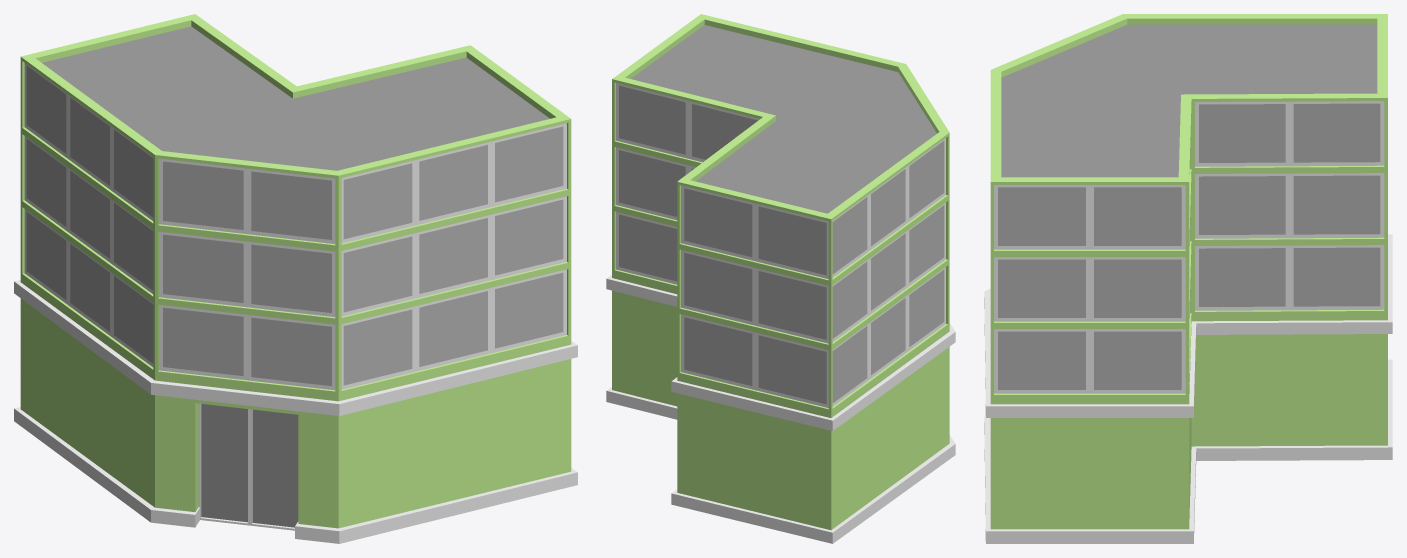
Rendered from SM_House_13_02.FBX.
3 renders of one model, left to right at view 1: azimuth 30°, elevation 25°; view 2: azimuth 150°, elevation 25°; view 3: azimuth 270°, elevation 25°, orthographic. The views are drawn at different scales.
Parts seen in each view (by area): view 1: SM_House_13_02; view 2: SM_House_13_02; view 3: SM_House_13_02.
Boxes of the visible parts, <box> form: SM_House_13_02: <box>14,14,577,543</box>; SM_House_13_02: <box>606,14,955,543</box>; SM_House_13_02: <box>984,14,1392,543</box>.
Bounding box in the file's own units: 6.16 × 6 × 6.16.
Materials: 1 (1 with a texture image).
